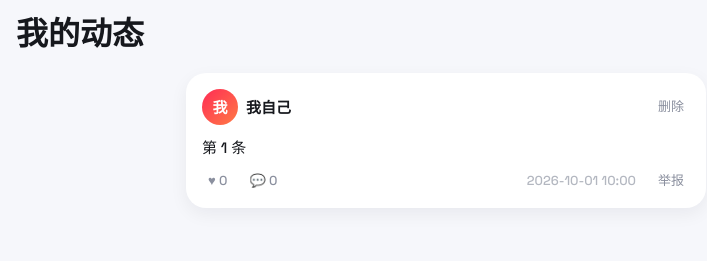
Scenario: MyPostsPage › 删除失败时把后端文案显示出来,不静默
Click the button "删除" at [671, 107], box [652,97,690,118]
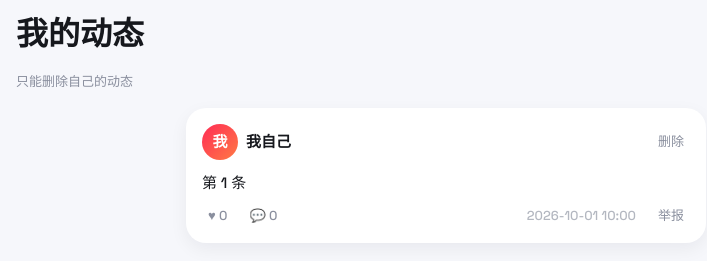
Expected: the text "只能删除自己的动态" is shown, [16,73,133,90]
